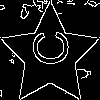C: (25, 30, 68, 66)
